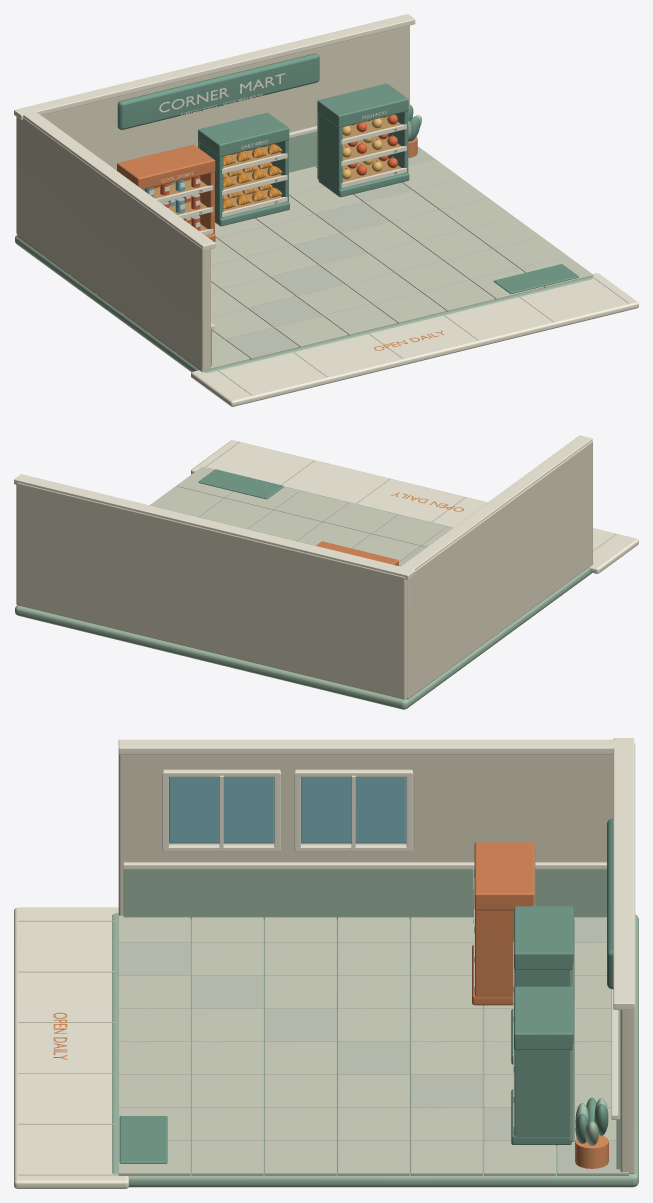
Rendered from spacious-v2.glb.
3 renders of one model, top to bottom at view 1: azimuth 30°, elevation 25°; view 2: azimuth 150°, elevation 25°; view 3: azimuth 270°, elevation 25°, orthographic. The views are drawn at different scales.
Parts seen in each view (by area): view 1: Wall left, Pavement, Wall back, Store sign board, Back top, Foundation, Left top, drinks.header, bread.header, fruit.header, fruit.side.-1, floor.tile.5.6 (+45 smaller); view 2: Wall back, Wall left, Pavement, Foundation, Back top, Left top, floor.tile.4.6, floor.tile.5.6, floor.tile.3.6, floor.tile.7.5, floor.tile.5.5, floor.tile.6.5 (+6 smaller); view 3: Wall left, Pavement, Wall left lower, Foundation, Left top, Window 0.2, Window 1.52, Back top, fruit.side.1, drinks.header, bread.header, fruit.header (+65 smaller).
Boxes of the visible parts, <box> form: Wall left: <box>18,117,210,369</box>; Pavement: <box>191,273,638,406</box>; Wall back: <box>16,25,409,234</box>; Store sign board: <box>117,53,319,129</box>; Back top: <box>14,14,415,119</box>; Foundation: <box>15,235,592,372</box>; Left top: <box>19,108,215,250</box>; drinks.header: <box>117,144,215,189</box>; bread.header: <box>198,112,289,156</box>; fruit.header: <box>317,83,408,127</box>; fruit.side.-1: <box>319,113,342,190</box>; floor.tile.5.6: <box>421,279,495,311</box>; Wall back: <box>16,482,407,699</box>; Wall left: <box>407,441,592,696</box>; Pavement: <box>191,440,638,573</box>; Foundation: <box>15,468,591,709</box>; Back top: <box>14,474,415,580</box>; Left top: <box>396,435,592,572</box>; floor.tile.4.6: <box>323,502,397,533</box>; floor.tile.5.6: <box>274,490,348,522</box>; floor.tile.3.6: <box>372,514,446,545</box>; floor.tile.7.5: <box>150,486,223,517</box>; floor.tile.5.5: <box>248,510,321,540</box>; floor.tile.6.5: <box>199,498,272,528</box>; Wall left: <box>118,754,613,915</box>; Pavement: <box>14,907,128,1188</box>; Wall left lower: <box>123,869,606,919</box>; Foundation: <box>112,913,638,1187</box>; Left top: <box>118,739,627,754</box>; Window 0.2: <box>301,777,406,842</box>; Window 1.52: <box>169,777,274,842</box>; Back top: <box>613,738,634,1009</box>; fruit.side.1: <box>514,1050,569,1136</box>; drinks.header: <box>474,842,534,910</box>; bread.header: <box>514,906,573,969</box>; fruit.header: <box>514,986,573,1049</box>.
Size of the model in its own units: 8.45 by 2.68 by 8.12.
